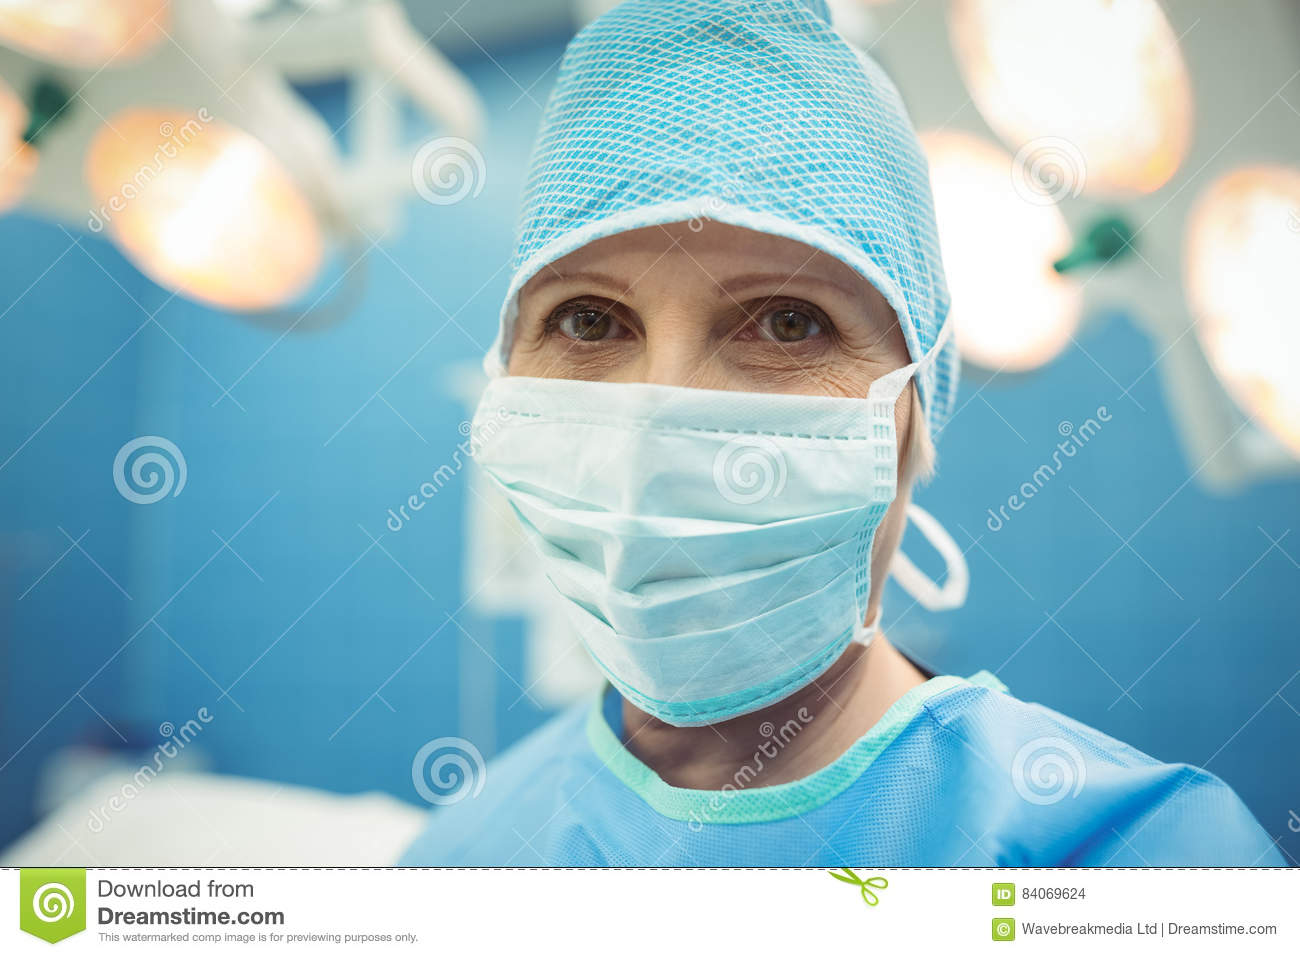mask: (481, 377, 906, 713)
